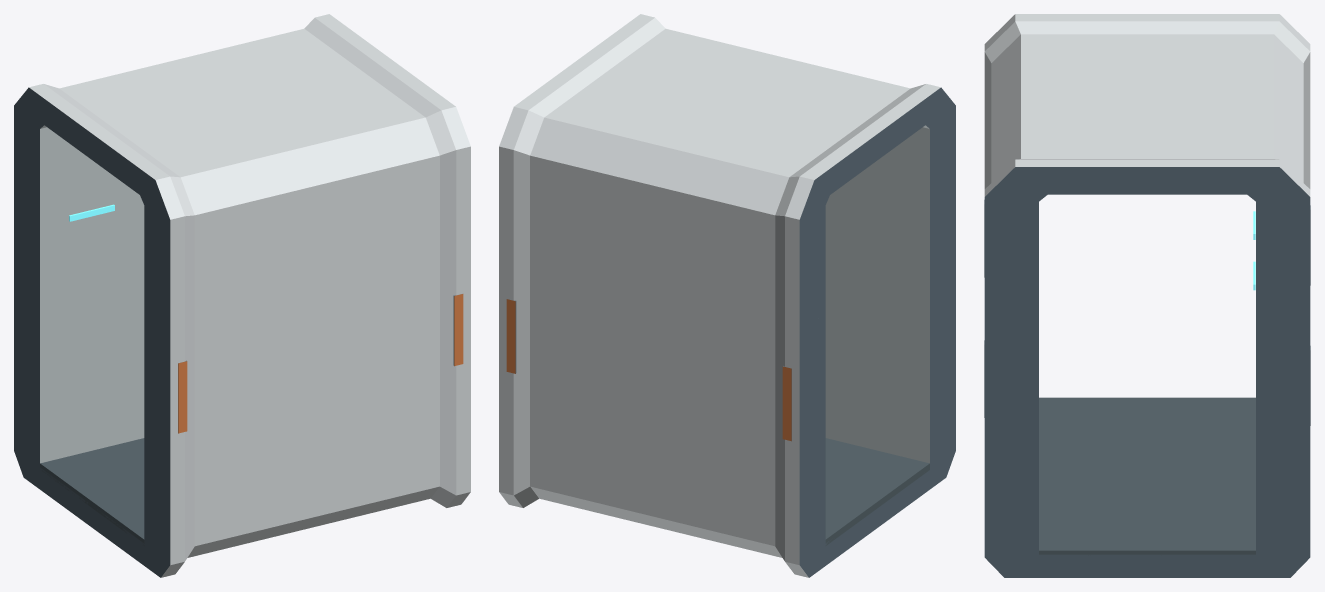
Rendered from cor_l01_transitable.glb.
3 renders of one model, left to right at view 1: azimuth 30°, elevation 25°; view 2: azimuth 150°, elevation 25°; view 3: azimuth 270°, elevation 25°, orthographic. The views are drawn at different scales.
Parts seen in each view (by area): view 1: COR_TR_CASCO_FRONTAL, COR_TR_CASCO_CUPULA, COR_TR_CASCO_INFERIOR, COR_TR_CASCO_DORSO, COR_TR_PISO, COR_TR_MARCAS_Y_GUIAS; view 2: COR_TR_CASCO_INFERIOR, COR_TR_CASCO_CUPULA, COR_TR_CASCO_DORSO, COR_TR_CASCO_FRONTAL, COR_TR_PISO, COR_TR_MARCAS_Y_GUIAS; view 3: COR_TR_CASCO_CUPULA, COR_TR_PISO, COR_TR_CASCO_INFERIOR, COR_TR_CASCO_FRONTAL, COR_TR_CASCO_DORSO, COR_TR_MARCAS_Y_GUIAS.
Boxes of the visible parts, bbox=[...] form: COR_TR_CASCO_FRONTAL: bbox=[138, 177, 470, 577]; COR_TR_CASCO_CUPULA: bbox=[25, 14, 470, 258]; COR_TR_CASCO_INFERIOR: bbox=[14, 212, 144, 564]; COR_TR_CASCO_DORSO: bbox=[14, 92, 144, 236]; COR_TR_PISO: bbox=[40, 438, 144, 545]; COR_TR_MARCAS_Y_GUIAS: bbox=[69, 204, 463, 433]; COR_TR_CASCO_INFERIOR: bbox=[499, 259, 928, 577]; COR_TR_CASCO_CUPULA: bbox=[510, 14, 955, 207]; COR_TR_CASCO_DORSO: bbox=[499, 116, 825, 332]; COR_TR_CASCO_FRONTAL: bbox=[825, 137, 955, 490]; COR_TR_PISO: bbox=[825, 438, 929, 545]; COR_TR_MARCAS_Y_GUIAS: bbox=[506, 299, 791, 441]; COR_TR_CASCO_CUPULA: bbox=[984, 14, 1286, 257]; COR_TR_PISO: bbox=[1039, 397, 1255, 555]; COR_TR_CASCO_INFERIOR: bbox=[1042, 169, 1310, 577]; COR_TR_CASCO_FRONTAL: bbox=[984, 84, 1050, 577]; COR_TR_CASCO_DORSO: bbox=[1256, 21, 1310, 314]; COR_TR_MARCAS_Y_GUIAS: bbox=[984, 200, 1310, 425].
Bounding box in the file's own units: 2 × 2.51 × 1.8.
